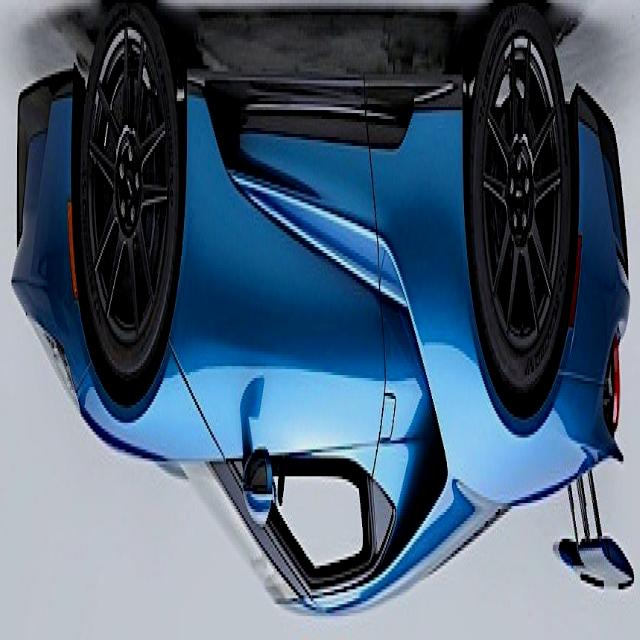blue: (10, 5, 633, 622)
